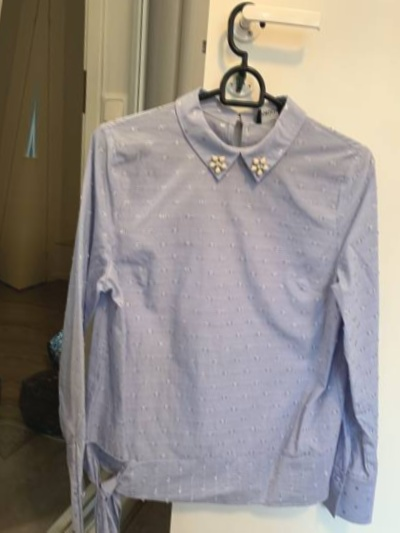Blouse: (34, 53, 400, 533), (0, 18, 4, 524)
